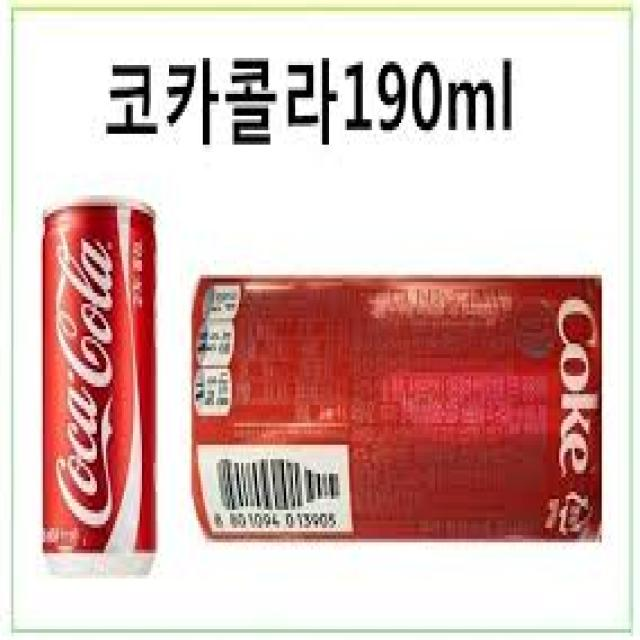Coca-Cola: (185, 251, 606, 555), (38, 193, 163, 586)
